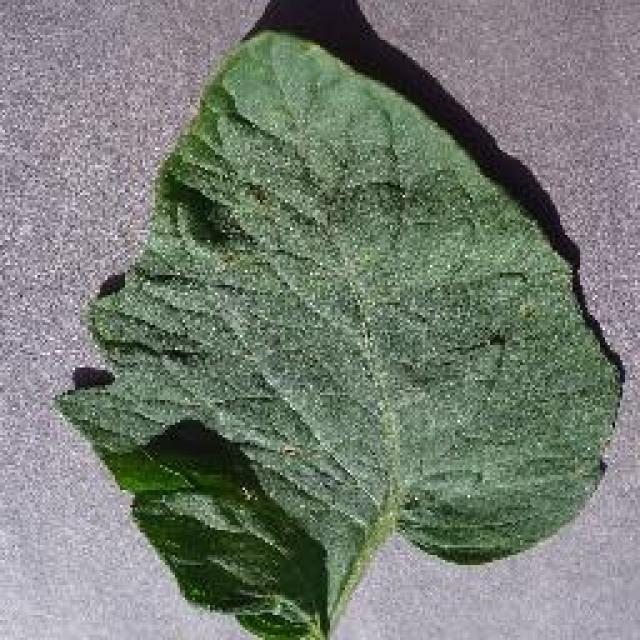Tomato Septoria spot leaf: (59, 22, 626, 640)
